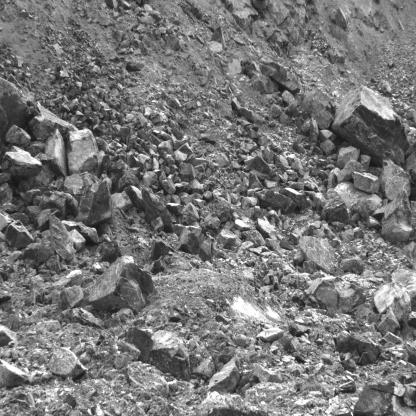stone: (331, 85, 409, 165), (89, 256, 153, 312), (352, 377, 416, 416), (151, 330, 192, 383), (75, 181, 113, 227), (381, 189, 412, 243), (174, 224, 214, 263), (373, 281, 411, 321), (0, 146, 44, 180), (142, 185, 173, 233), (298, 235, 335, 275), (259, 58, 301, 93), (379, 155, 410, 201), (207, 353, 241, 394), (304, 87, 333, 132), (69, 129, 98, 173), (50, 216, 76, 264), (48, 348, 88, 378), (125, 327, 153, 364), (0, 357, 31, 390), (257, 188, 296, 214), (45, 131, 68, 175), (5, 220, 34, 250), (23, 243, 52, 268), (321, 197, 348, 223), (64, 173, 85, 204), (24, 275, 45, 306), (337, 160, 364, 184), (352, 171, 380, 194), (378, 307, 401, 335), (338, 142, 361, 168), (60, 285, 83, 310), (5, 125, 31, 147), (279, 188, 306, 209), (34, 209, 62, 229), (117, 171, 141, 193), (212, 195, 231, 222), (209, 26, 228, 53), (249, 156, 274, 176), (251, 75, 278, 93), (100, 241, 122, 263), (152, 240, 175, 259), (158, 139, 175, 164), (68, 229, 86, 252), (340, 258, 364, 275), (241, 230, 266, 246), (203, 212, 222, 231), (216, 100, 234, 120), (44, 255, 62, 274), (25, 141, 46, 157), (309, 117, 319, 150), (177, 215, 202, 228), (158, 176, 176, 194), (319, 139, 336, 157), (180, 203, 199, 219), (10, 212, 30, 227), (198, 128, 216, 143), (249, 172, 263, 191), (27, 206, 43, 222), (142, 171, 157, 188), (239, 107, 256, 122), (179, 163, 196, 178), (215, 152, 230, 168), (174, 149, 188, 166), (150, 217, 164, 234), (137, 153, 151, 170), (319, 129, 336, 143), (281, 90, 295, 106), (26, 189, 41, 202), (269, 105, 282, 118), (119, 126, 129, 142), (379, 82, 391, 94), (54, 179, 65, 192)
